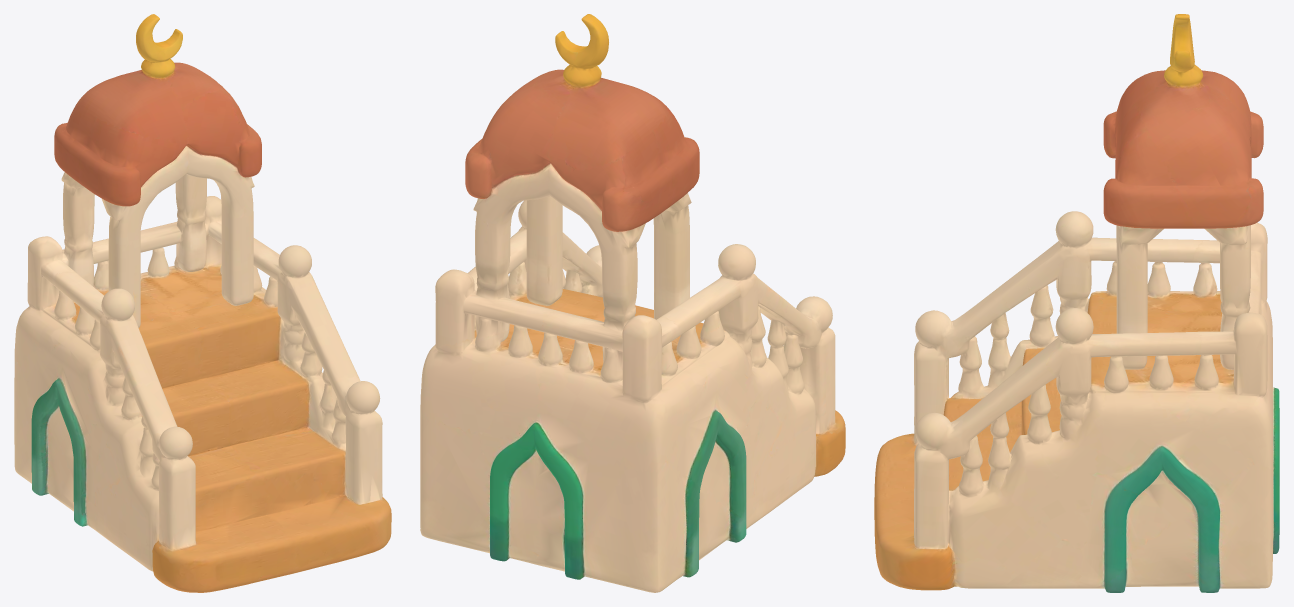
File: minbar.glb
3 renders of one model, left to right at view 1: azimuth 30°, elevation 25°; view 2: azimuth 150°, elevation 25°; view 3: azimuth 270°, elevation 25°, orthographic. The views are drawn at different scales.
Bounding box in the file's own units: 0.9695 × 1.9 × 1.35.
Materials: 1 (1 with a texture image).
